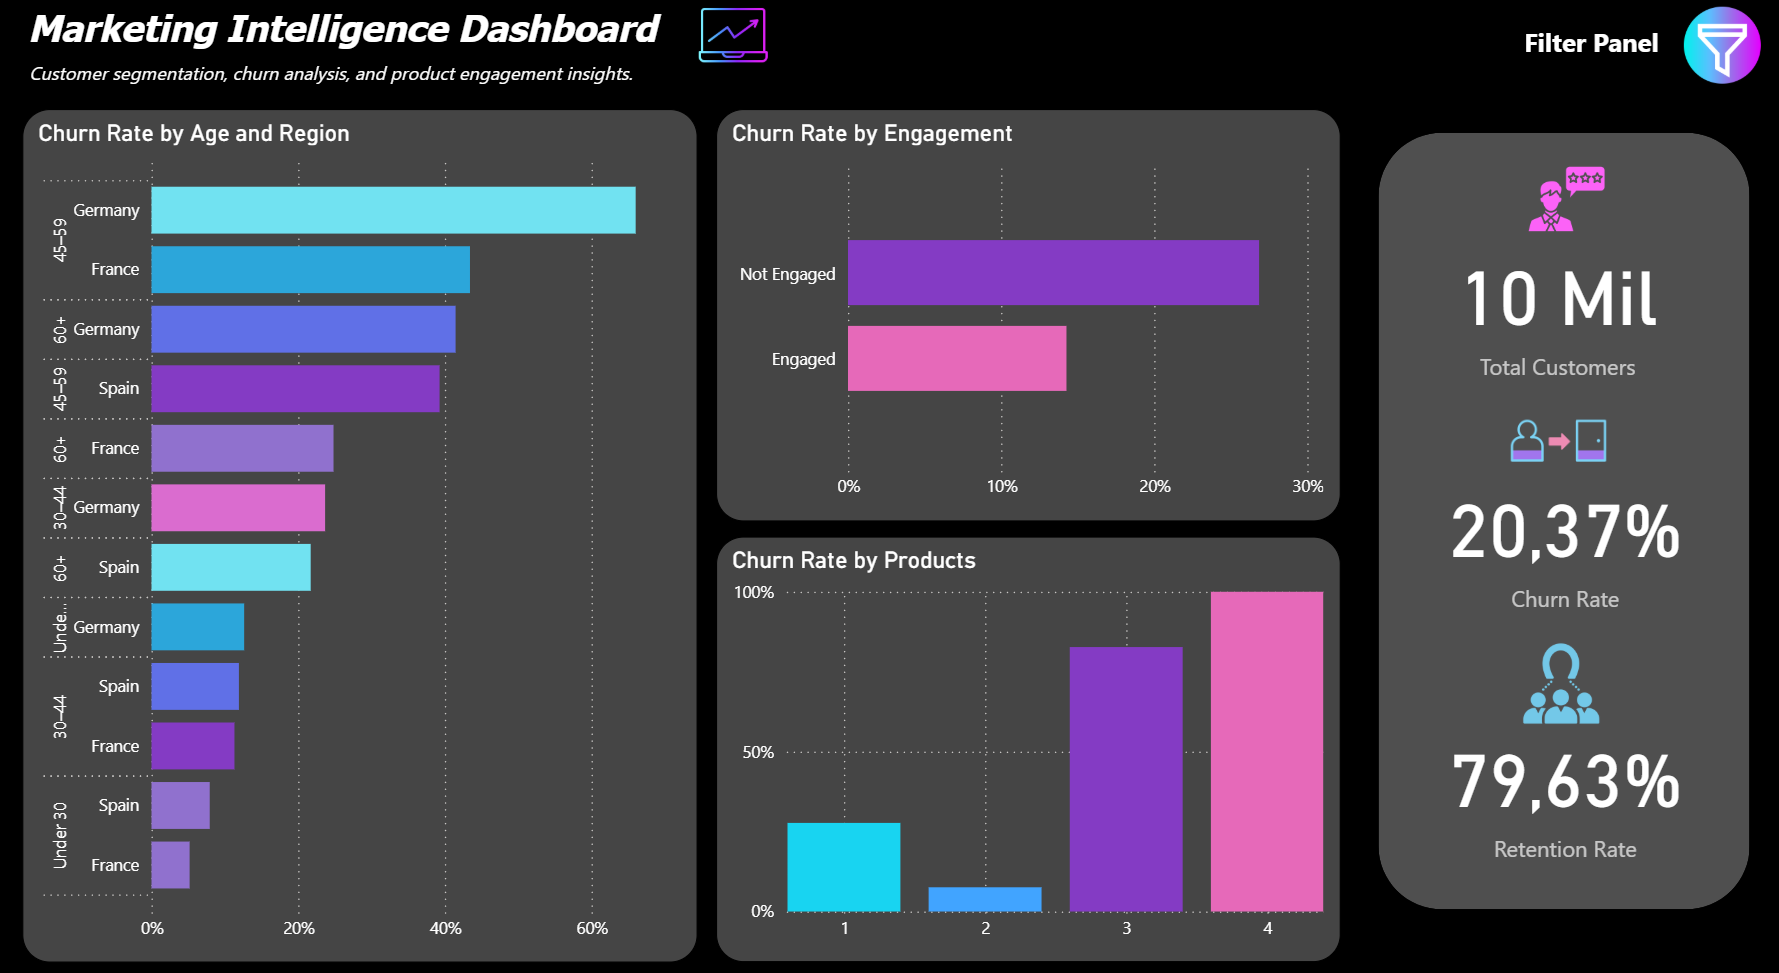

Layout of this report page (visuals, bound fields, positions):
{"tool":"powerbi","page":{"name":"Page 1","canvas":[1280,720],"ordinal":0},"visuals":[{"type":"barChart","title":"Churn Rate by Engagement","fields":{"Category":["Churn_Modelling.IsActiveMember"],"Y":["Churn_Modelling.Churn Rate"]},"box":[505,87.1,454,299.8],"z":0},{"type":"shape","box":[987.7,104.5,269.9,564.8],"z":0,"group":"g1"},{"type":"cardVisual","fields":{"Data":["Churn_Modelling.Total Customers"]},"box":[1018.8,174.2,199,128.1],"z":1000,"group":"g1"},{"type":"clusteredBarChart","title":"Churn Rate by Age and Region","fields":{"Category":["Churn_Modelling.AgeGroup","Churn_Modelling.Geography"],"Y":["Churn_Modelling.Churn Rate"]},"box":[1.2,87.1,491.4,620.7],"z":2000},{"type":"cardVisual","fields":{"Data":["Churn_Modelling.Retention Rate"]},"box":[1018.8,528.7,210.2,121.9],"z":2000,"group":"g1"},{"type":"cardVisual","fields":{"Data":["Churn_Modelling.Churn Rate"]},"box":[1018.8,348.3,210.2,120.7],"z":3000,"group":"g1"},{"type":"columnChart","title":"Churn Rate by Products","fields":{"Y":["Churn_Modelling.Churn Rate"],"Category":["Churn_Modelling.NumOfProducts"]},"box":[505,398.1,454,309.7],"z":3000},{"type":"textbox","box":[0,7.5,492.6,79.6],"z":4000},{"type":"image","box":[1083.5,115.7,82.1,74.6],"z":4000,"group":"g1"},{"type":"image","box":[486.4,0,63.4,67.2],"z":5000},{"type":"image","box":[1068.6,281.1,99.5,95.8],"z":5000,"group":"g1"},{"type":"textbox","box":[1.2,47.3,491.4,75.9],"z":6000},{"type":"image","box":[1086,469,69.7,72.1],"z":6000,"group":"g1"},{"type":"group","id":"g1","title":"Indicadores","box":[987.7,104.5,269.9,564.8],"z":6500},{"type":"image","box":[1204.2,7.5,65.9,67.2],"z":7000},{"type":"textbox","box":[1088.5,21.1,115.7,53.5],"z":9000}]}

Visuals, with their boxes in screenshot pixels (x1, y1, x2, y2), scaled from the page's 1280x720 canvas onto the 1779x973 screenshot:
"Churn Rate by Engagement" barChart: (left=702, top=118, right=1333, bottom=523)
shape: (left=1373, top=141, right=1748, bottom=904)
cardVisual - Churn_Modelling.Total Customers: (left=1416, top=235, right=1693, bottom=409)
"Churn Rate by Age and Region" clusteredBarChart: (left=2, top=118, right=685, bottom=957)
cardVisual - Churn_Modelling.Retention Rate: (left=1416, top=714, right=1708, bottom=879)
cardVisual - Churn_Modelling.Churn Rate: (left=1416, top=471, right=1708, bottom=634)
"Churn Rate by Products" columnChart: (left=702, top=538, right=1333, bottom=957)
textbox: (left=0, top=10, right=685, bottom=118)
image: (left=1506, top=156, right=1620, bottom=257)
image: (left=676, top=0, right=764, bottom=91)
image: (left=1485, top=380, right=1623, bottom=509)
textbox: (left=2, top=64, right=685, bottom=166)
image: (left=1509, top=634, right=1606, bottom=731)
"Indicadores" group: (left=1373, top=141, right=1748, bottom=904)
image: (left=1674, top=10, right=1765, bottom=101)
textbox: (left=1513, top=29, right=1674, bottom=101)
